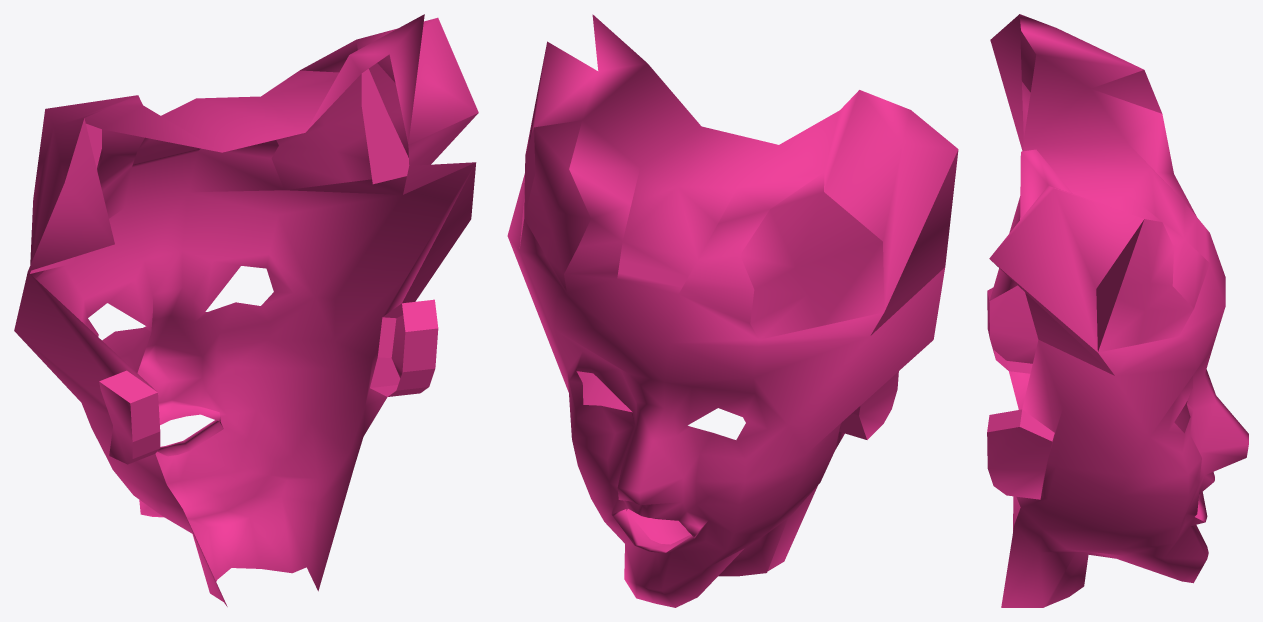
File: SM_P_Mask.fbx
3 renders of one model, left to right at view 1: azimuth 30°, elevation 25°; view 2: azimuth 150°, elevation 25°; view 3: azimuth 270°, elevation 25°, orthographic. The views are drawn at different scales.
Parts seen in each view (by area): view 1: SM_P_Mask; view 2: SM_P_Mask; view 3: SM_P_Mask.
Part boxes in pixels (box(x1,y1,x2,y2)): SM_P_Mask: box(14, 14, 478, 606); SM_P_Mask: box(507, 14, 958, 607); SM_P_Mask: box(987, 14, 1248, 607).
Bounding box in the file's own units: 25.96 × 29.64 × 13.67.
